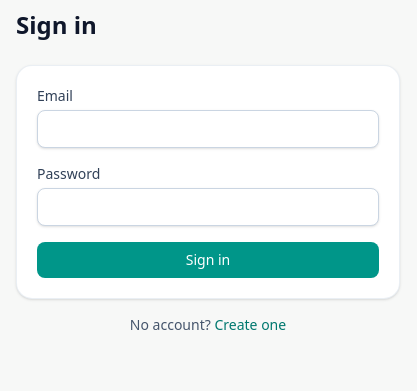
LoginPage › shows the API error message on failure
In the field labelled "Email": (208, 129) [37, 110, 379, 148], type "t@e.com"
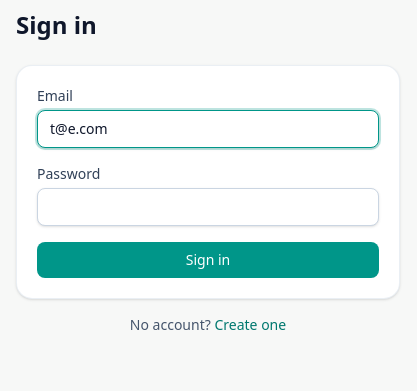
In the password field labelled "Password": (208, 207) [37, 188, 379, 226], type "wrong"
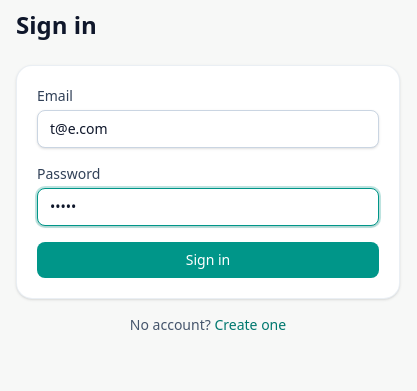
Click the button "Sign in": (208, 260) [37, 242, 379, 278]
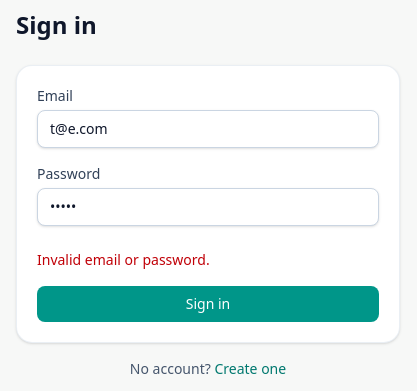
Result: the text "Invalid email or password." is shown at [37, 250, 210, 269]
